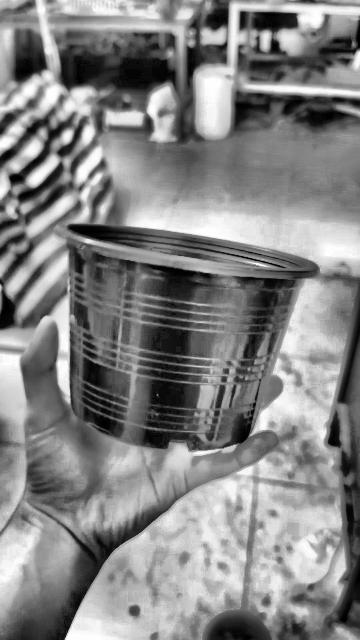pot: (57, 224, 316, 451)
